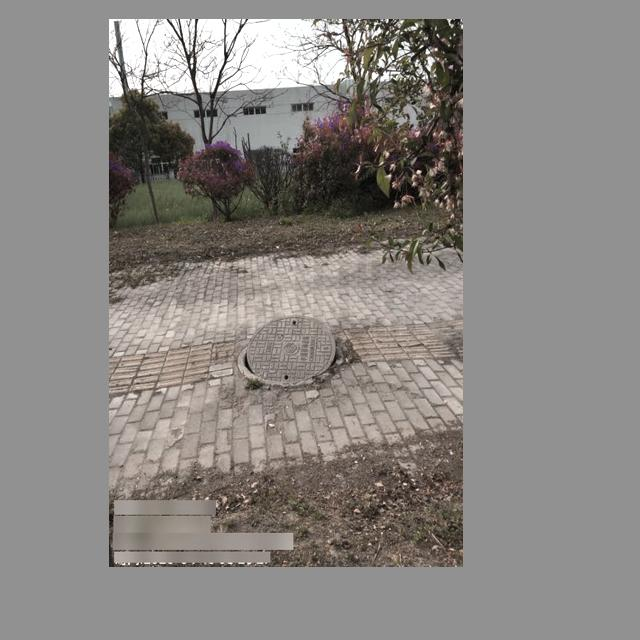uncovered: (236, 313, 342, 384)
